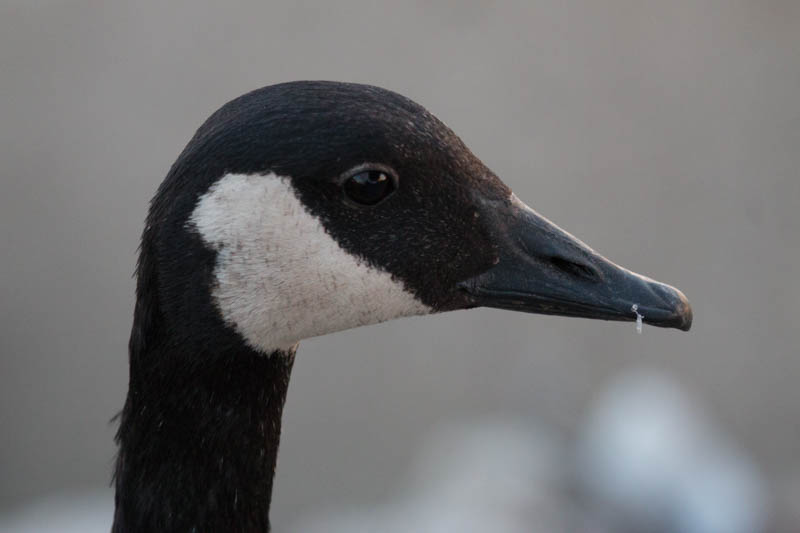goose-head: (130, 79, 695, 354)
